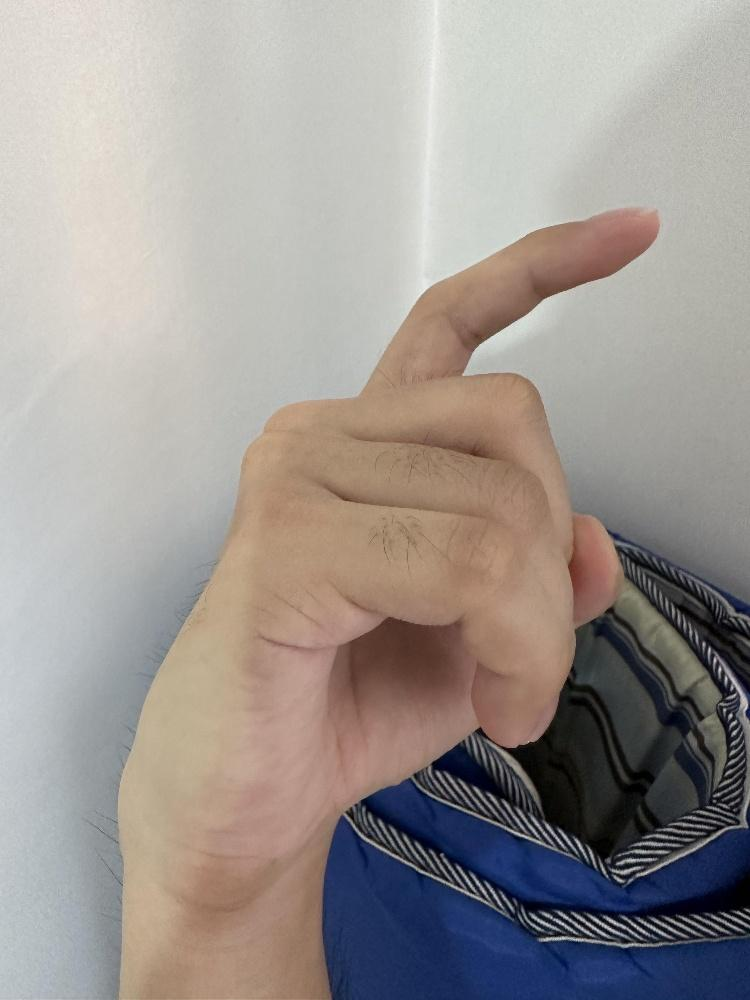x: (114, 201, 665, 895)
